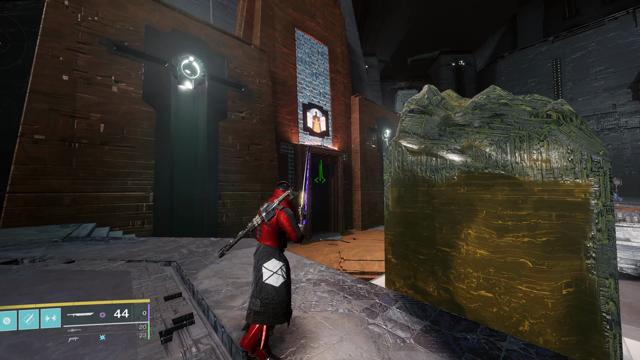worship: (307, 109, 326, 132)
